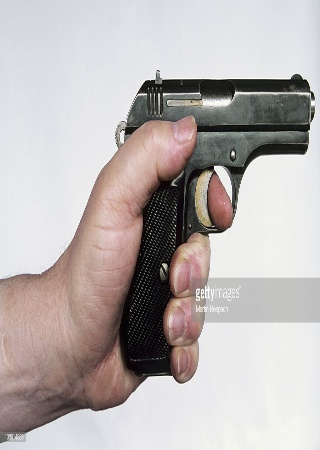handgun: (115, 66, 315, 380)
